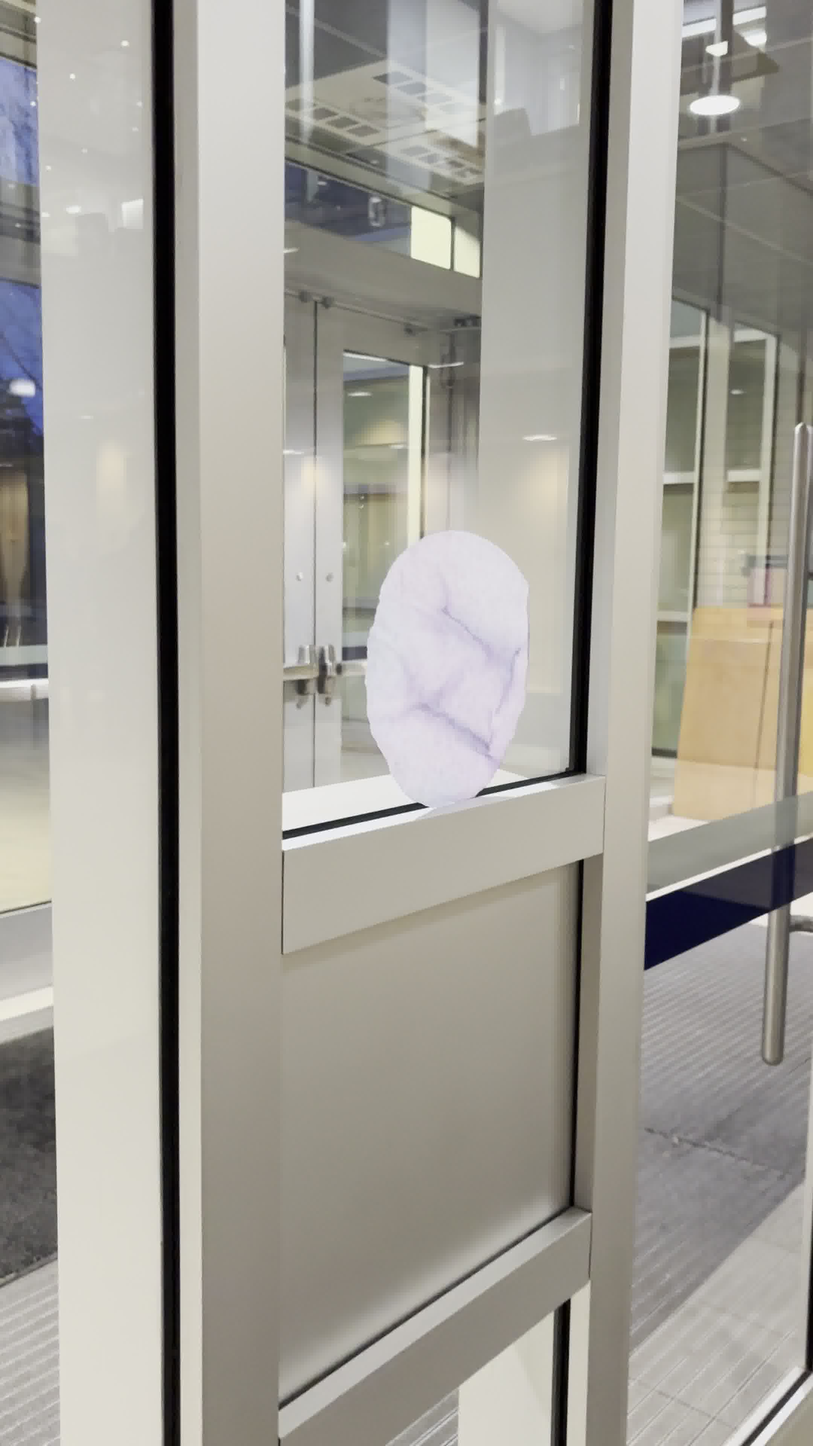Target: (365, 530, 530, 807)
